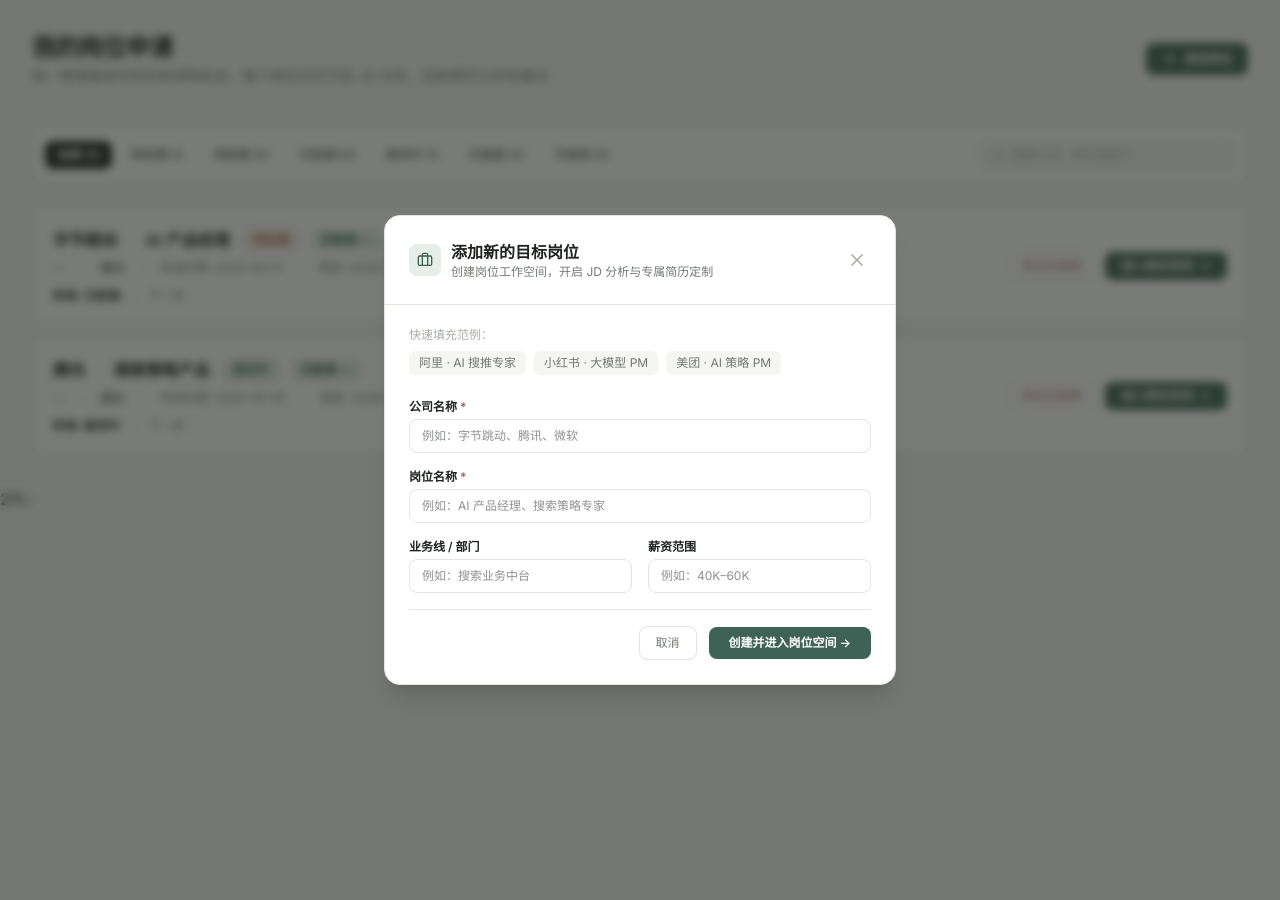
Test: useJobsQuery 迁移视图 › create：建 job 实体（Q2 Job 先行，创建 ≠ 投递），cache 前置写入
Expected: the text "字节跳动" is shown, x1=53 y1=228 x2=117 y2=252
Type "快手" into the field with placeholder "例如：字节跳动、腾讯、微软" at coordinates (640, 436), box x1=409 y1=419 x2=871 y2=453
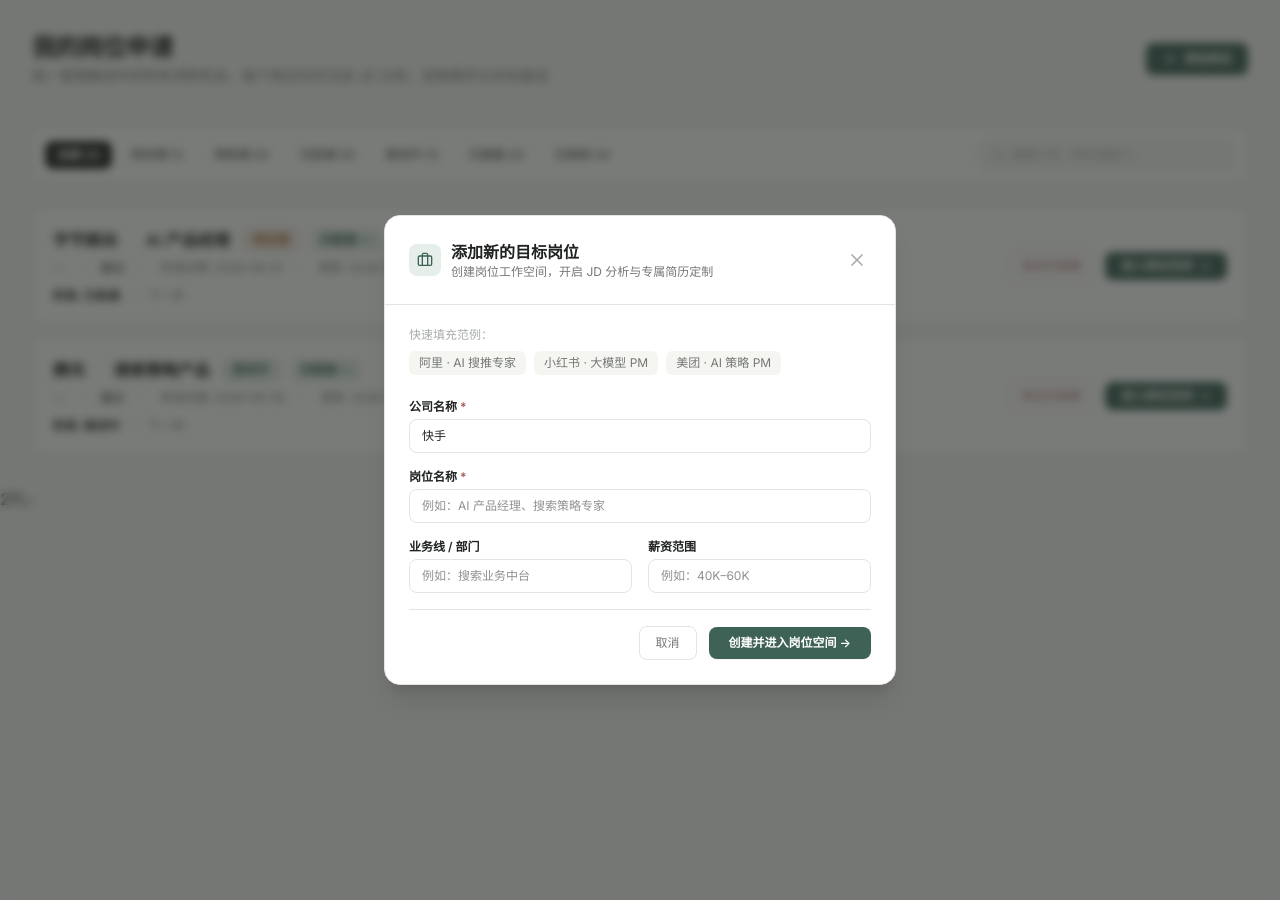
Type "AI 策略产品" into the field with placeholder "例如：AI 产品经理、搜索策略专家" at coordinates (640, 506), box x1=409 y1=489 x2=871 y2=523
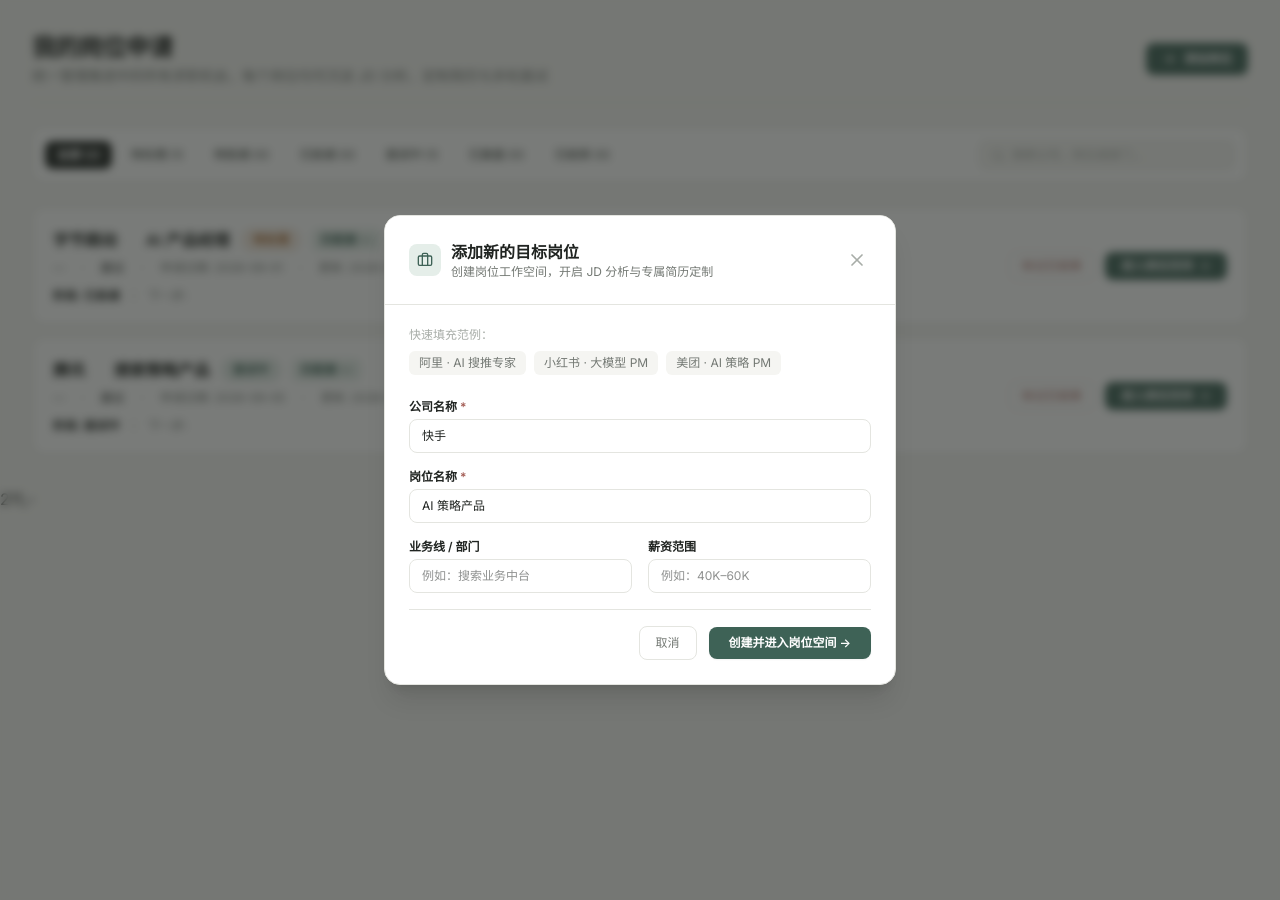
Click the button "创建并进入岗位空间 →" at coordinates (790, 643), box x1=708 y1=627 x2=871 y2=659
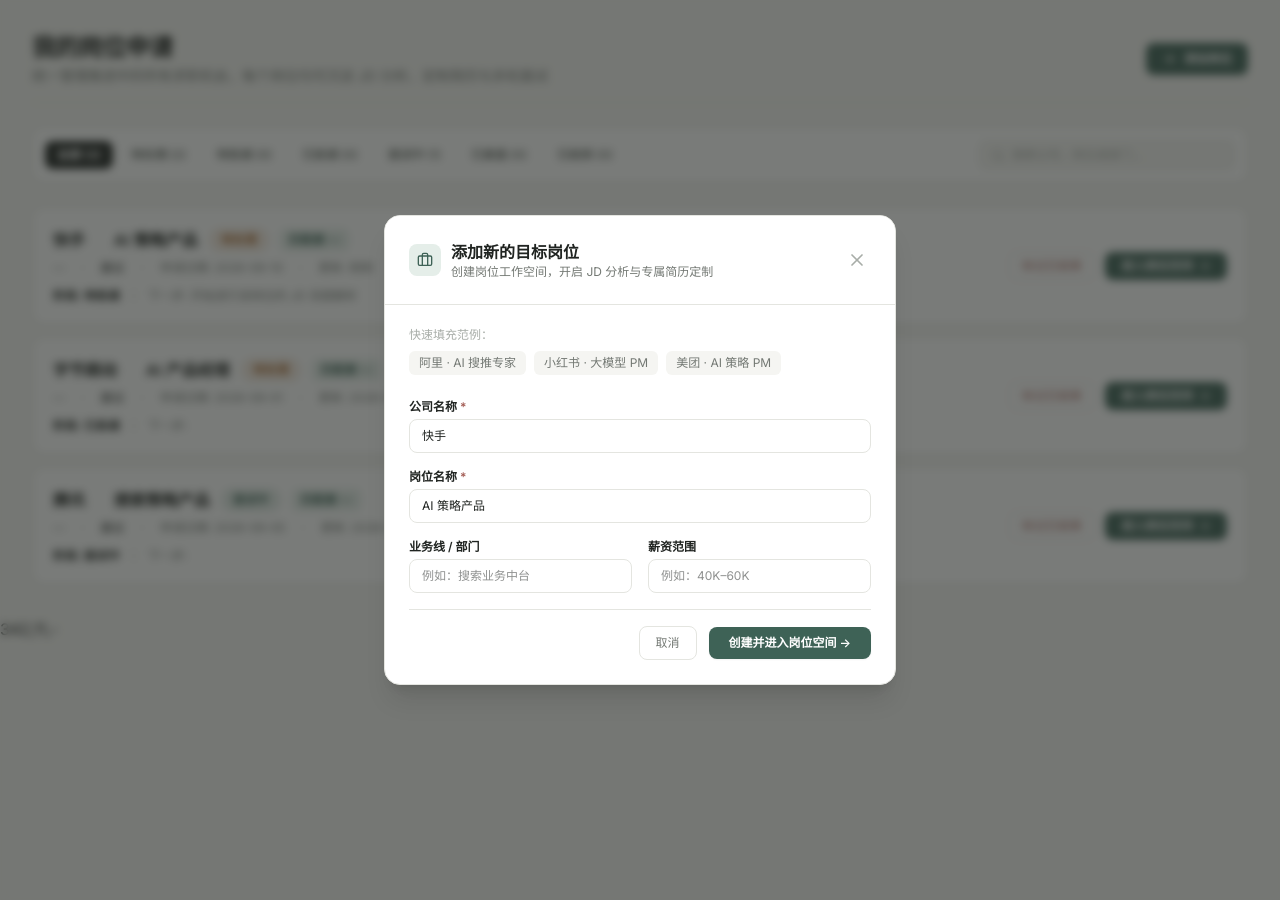
Expected: the text "快手" is shown, x1=53 y1=228 x2=85 y2=252
Result: the text with test id "cache-count" reads "3" at x1=0 y1=619 x2=10 y2=639
